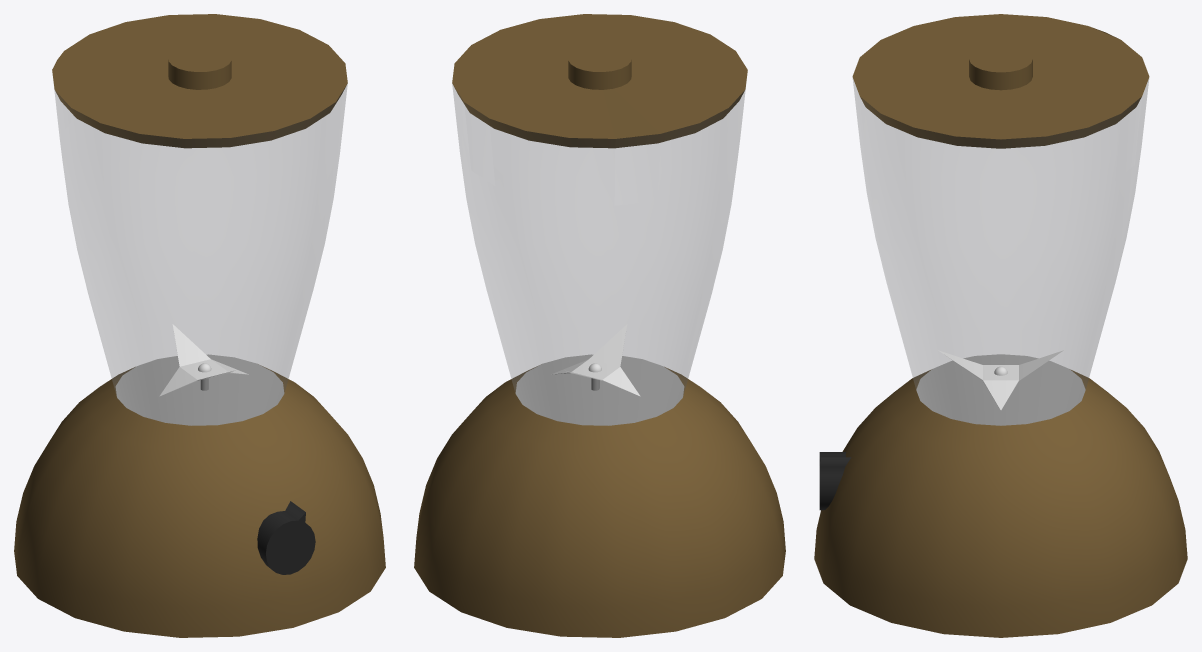
Rendered from Blender Machine.fbx.
The picture shows the model from 3 angles, left to right: view 1: azimuth 30°, elevation 25°; view 2: azimuth 150°, elevation 25°; view 3: azimuth 270°, elevation 25°; orthographic projection.
Parts seen in each view (by area): view 1: pSphere1, pCylinder1, pCube1; view 2: pSphere1, pCube1; view 3: pSphere1, pCube1, pCylinder1.
Part boxes in pixels (x1,y1,x2,y2): pSphere1: [14, 14, 385, 637]; pCylinder1: [257, 501, 315, 574]; pCube1: [159, 324, 248, 396]; pSphere1: [414, 14, 785, 637]; pCube1: [551, 324, 640, 396]; pSphere1: [814, 14, 1187, 637]; pCube1: [938, 350, 1063, 410]; pCylinder1: [819, 452, 851, 510].
Size of the model in its own units: 12.99 by 19.19 by 12.99.
